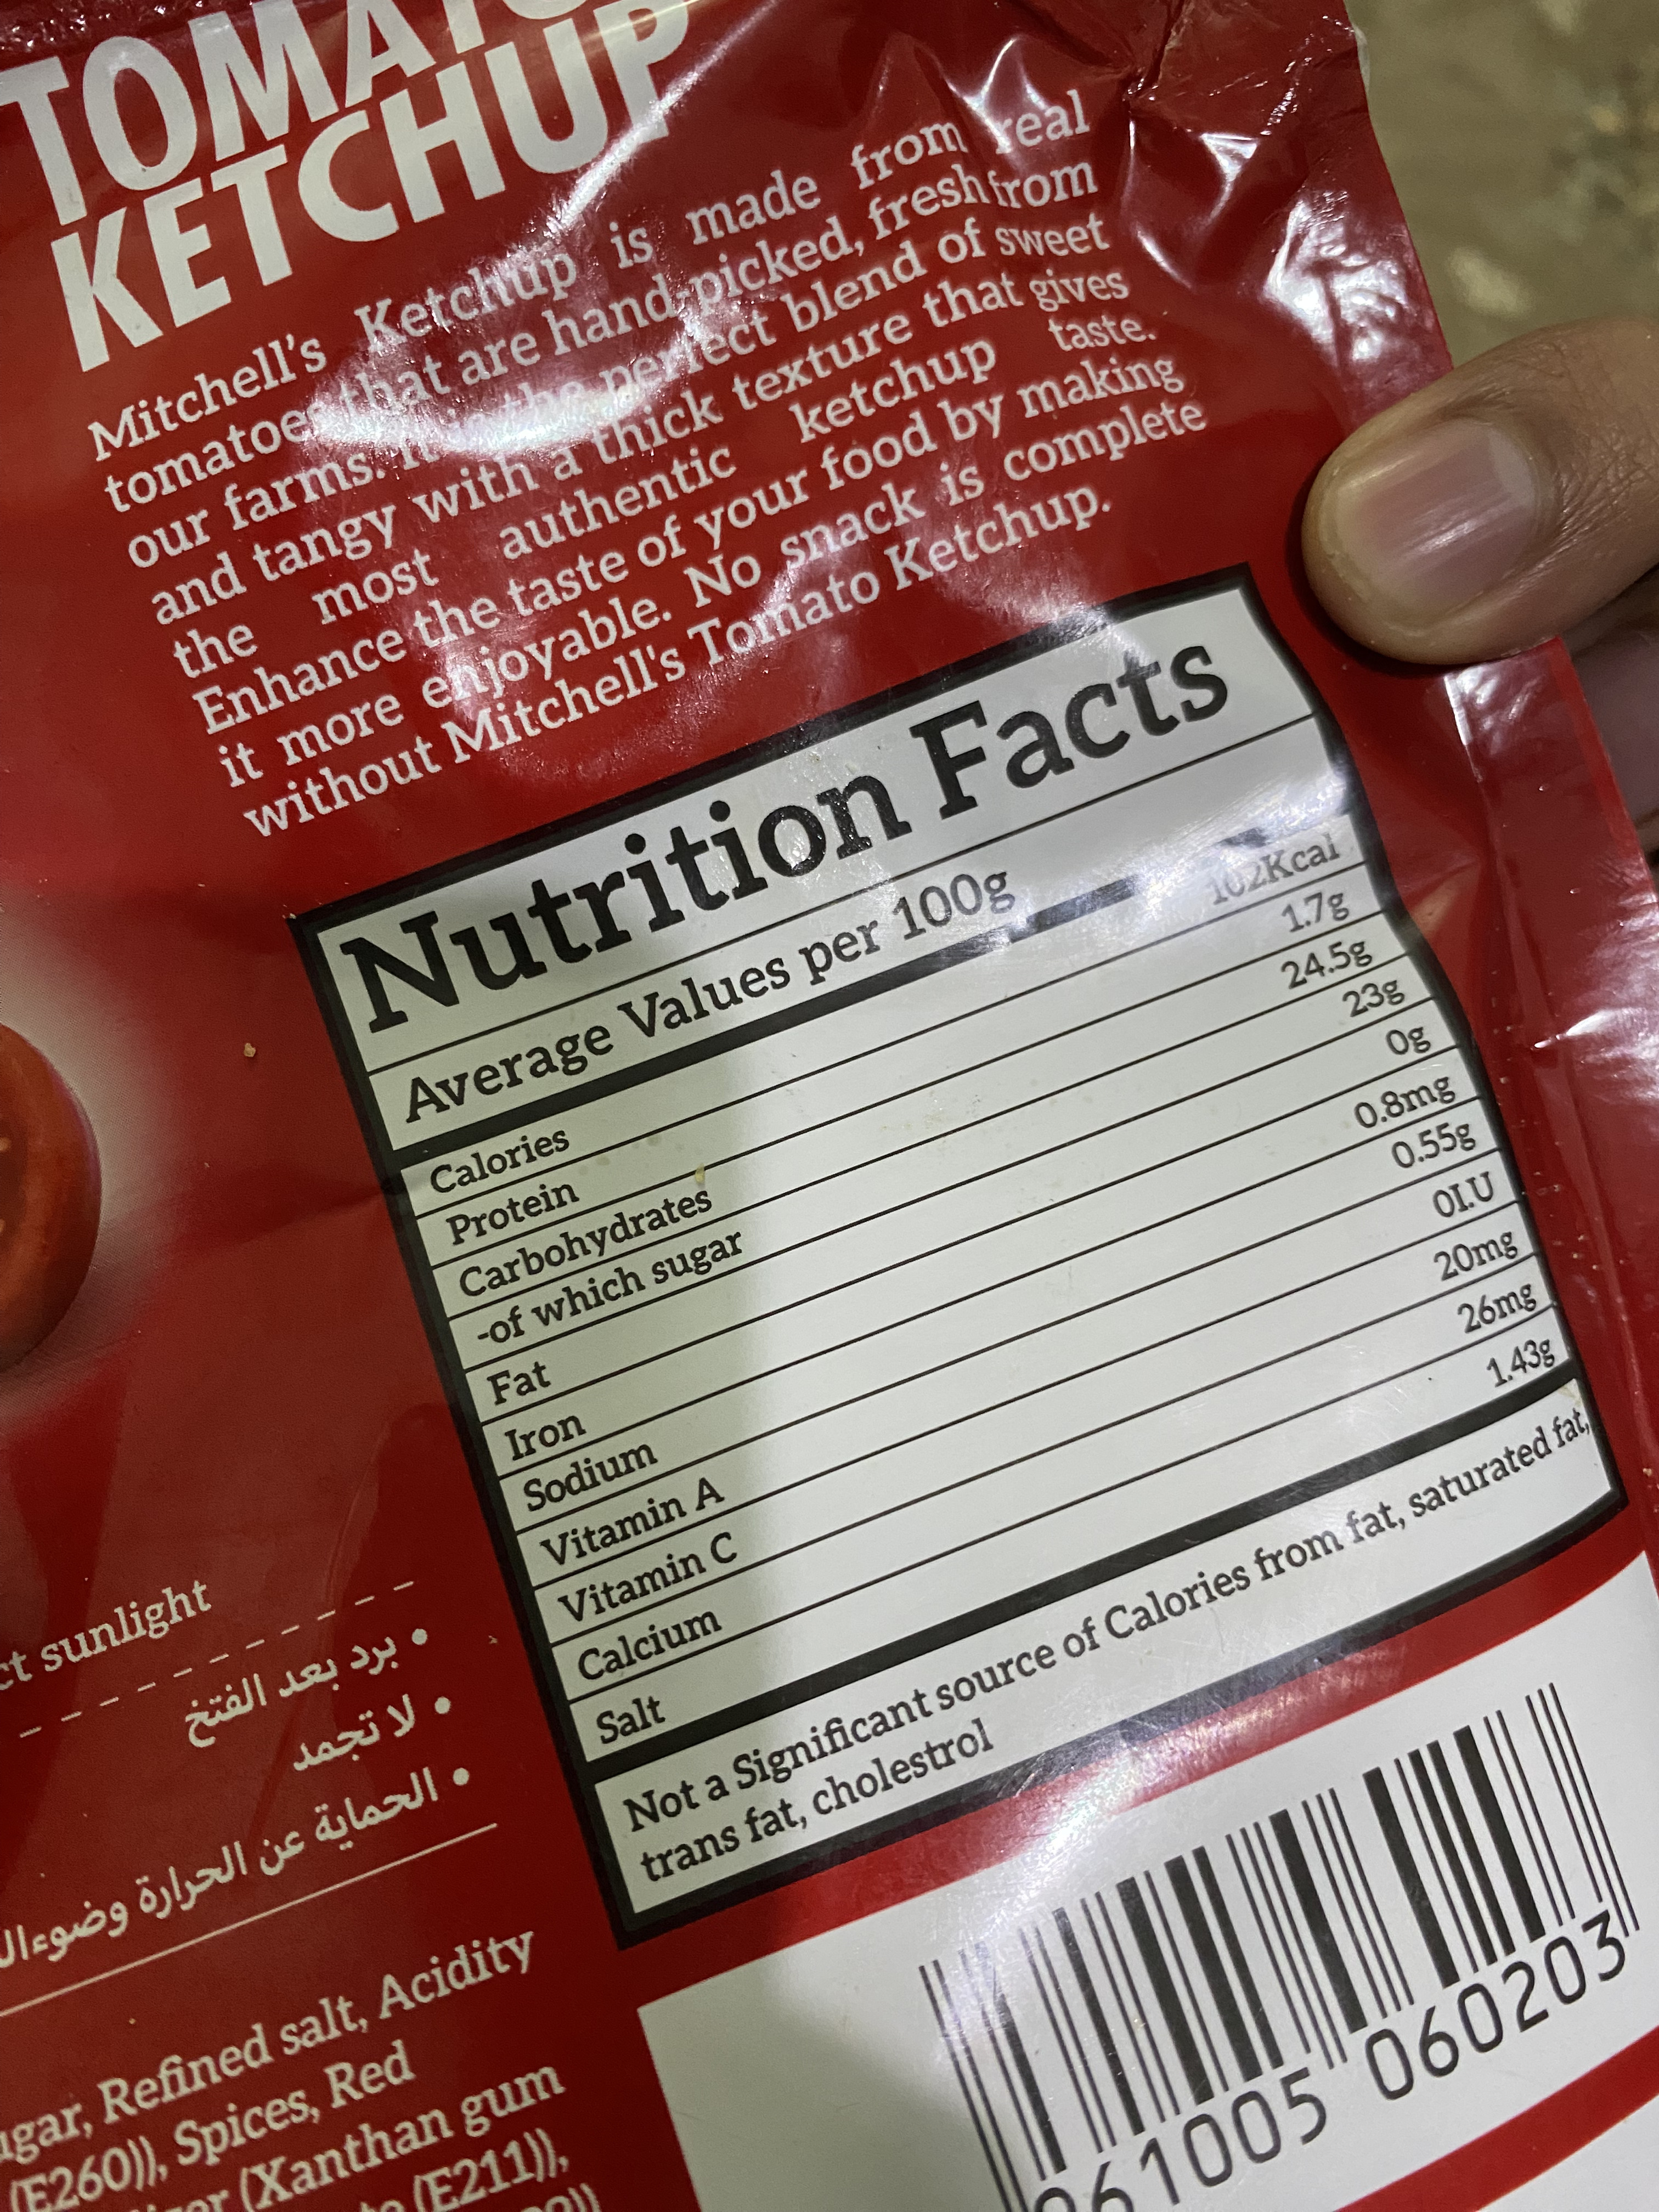table: (282, 561, 1626, 1952)
